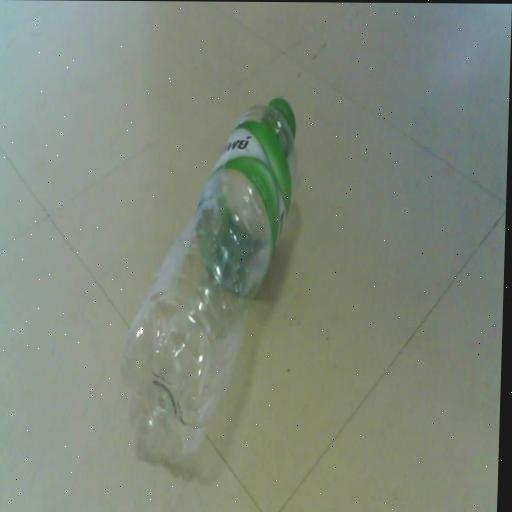bottle: (116, 99, 298, 472)
